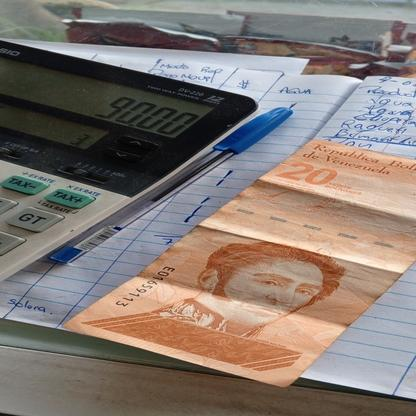vef_front: (0, 28, 355, 281)
